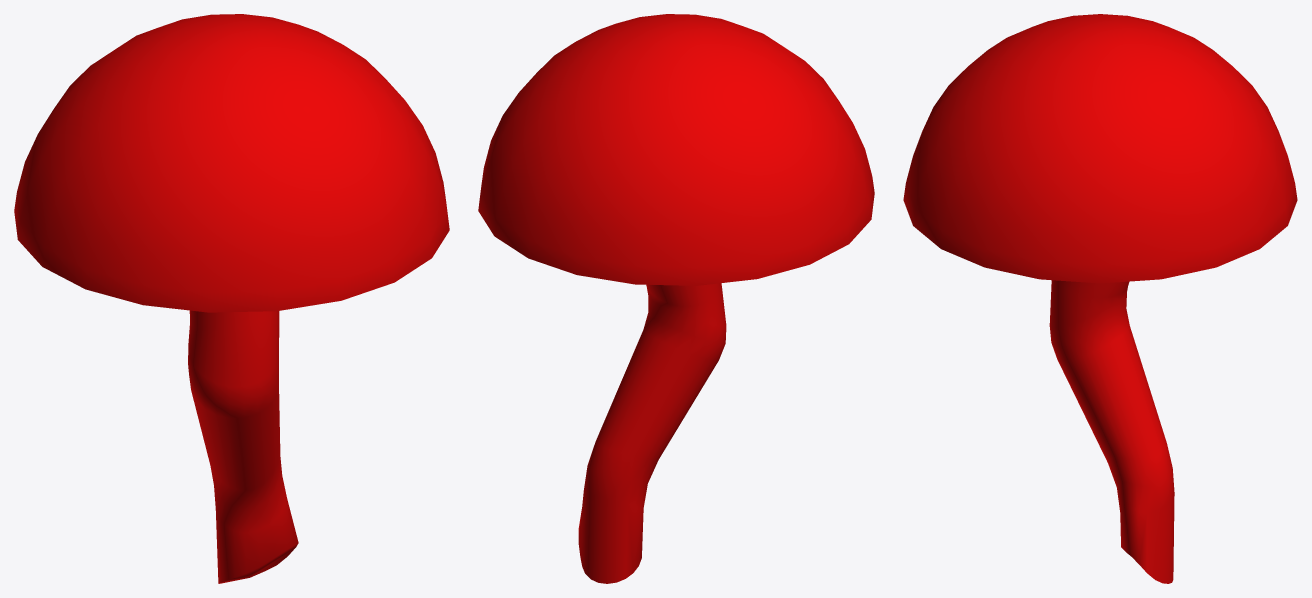
The model's file is mushroom.fbx.
3 views of the same model, side by side, from view 1: azimuth 30°, elevation 25°; view 2: azimuth 150°, elevation 25°; view 3: azimuth 270°, elevation 25° (orthographic). The views are drawn at different scales.
Visible parts, largest first — view 1: pSphere6; view 2: pSphere6; view 3: pSphere6.
Part boxes in pixels (x1=…): pSphere6: x1=14, y1=14, x2=449, y2=583; pSphere6: x1=478, y1=14, x2=874, y2=583; pSphere6: x1=903, y1=14, x2=1297, y2=583.
Size of the model in its own units: 0.2025 by 0.299 by 0.2025.
